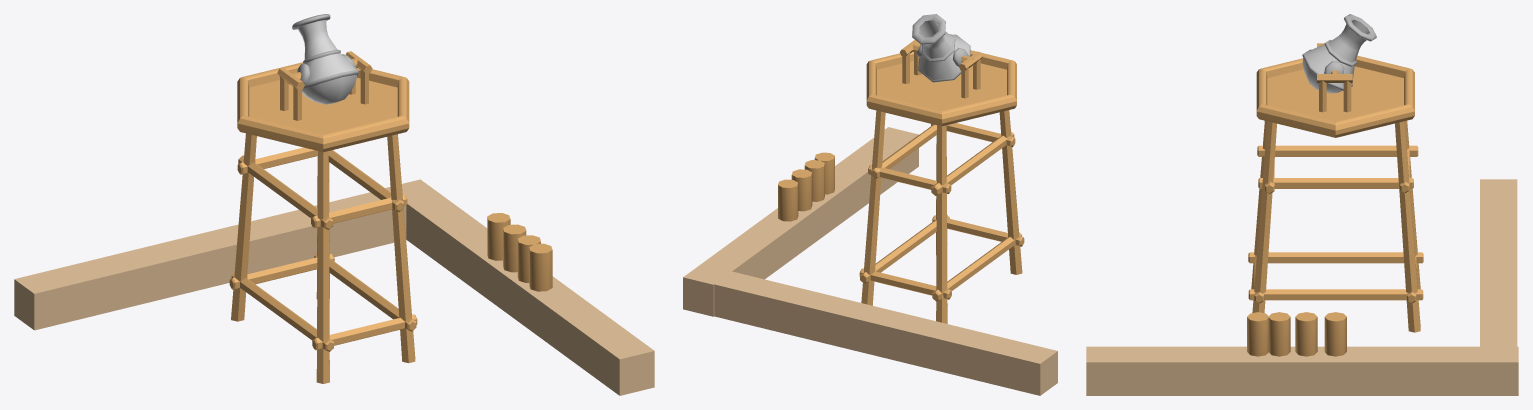
File: tower.fbx
3 views of the same model, side by side, from view 1: azimuth 30°, elevation 25°; view 2: azimuth 150°, elevation 25°; view 3: azimuth 270°, elevation 25° (orthographic). The views are drawn at different scales.
Visible parts, largest first — view 1: pCube1, pCube2, pCylinder1, pCylinder24, pCylinder2, pCylinder3, pCylinder5, pCylinder11, pCylinder10, pCylinder12, pCylinder28, pCylinder6 (+7 smaller); view 2: pCube1, pCube2, pCylinder1, pCylinder24, pCylinder5, pCylinder4, pCylinder2, pCylinder11, pCylinder10, pCylinder12, pCylinder25, pCylinder9 (+7 smaller); view 3: pCube2, pCylinder1, pCube1, pCylinder24, pCylinder4, pCylinder3, pCylinder10, pCylinder11, pCylinder12, pCylinder13, pCylinder25, pCylinder26 (+4 smaller).
Part boxes in pixels (<box>): pCube1: <box>14,180,436,330</box>; pCube2: <box>386,179,654,395</box>; pCylinder1: <box>237,62,409,152</box>; pCylinder24: <box>292,14,358,104</box>; pCylinder2: <box>316,151,329,383</box>; pCylinder3: <box>387,134,415,363</box>; pCylinder5: <box>231,133,256,321</box>; pCylinder11: <box>231,273,333,351</box>; pCylinder10: <box>314,253,416,331</box>; pCylinder12: <box>238,155,333,229</box>; pCylinder28: <box>529,243,552,291</box>; pCylinder6: <box>312,314,417,350</box>; pCube1: <box>714,271,1057,395</box>; pCube2: <box>683,127,918,316</box>; pCylinder1: <box>866,50,1016,126</box>; pCylinder24: <box>912,14,970,82</box>; pCylinder5: <box>936,125,947,323</box>; pCylinder4: <box>861,110,885,305</box>; pCylinder2: <box>999,110,1022,274</box>; pCylinder11: <box>932,232,1021,301</box>; pCylinder10: <box>860,215,949,283</box>; pCylinder12: <box>931,131,1014,195</box>; pCylinder25: <box>778,179,798,221</box>; pCylinder9: <box>859,268,951,299</box>; pCube2: <box>1086,346,1518,395</box>; pCylinder1: <box>1256,55,1414,137</box>; pCube1: <box>1480,179,1517,361</box>; pCylinder24: <box>1302,14,1376,93</box>; pCylinder4: <box>1395,121,1420,332</box>; pCylinder3: <box>1252,121,1276,312</box>; pCylinder10: <box>1248,289,1423,300</box>; pCylinder11: <box>1248,252,1423,263</box>; pCylinder12: <box>1257,145,1418,156</box>; pCylinder13: <box>1258,178,1413,188</box>; pCylinder25: <box>1324,312,1346,356</box>; pCylinder26: <box>1295,312,1317,356</box>.
Size of the model in its own units: 11.64 by 8.72 by 11.61.
